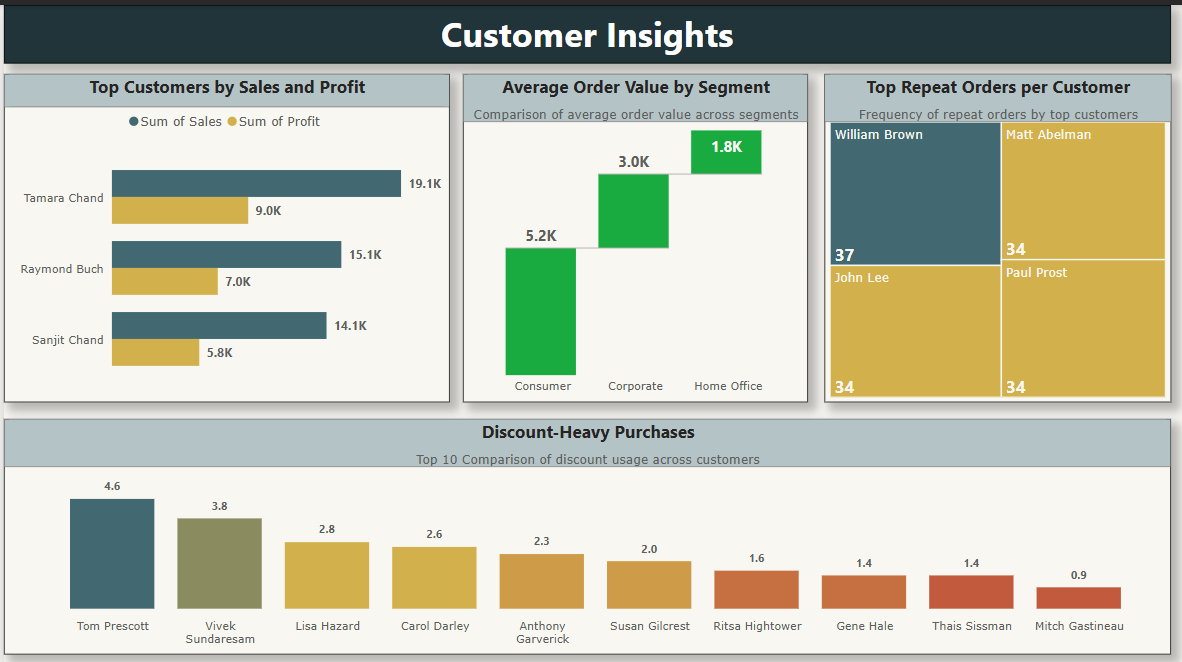

Layout of this report page (visuals, bound fields, positions):
{"tool":"powerbi","page":{"name":"Customer Insights","canvas":[1280,720],"ordinal":2},"visuals":[{"type":"textbox","box":[0,0,1265.5,63.4],"z":0},{"type":"clusteredBarChart","title":"Top Customers by Sales and Profit","fields":{"Category":["Orders.Customer Name"],"Y":["Orders.Sales","Orders.Profit"]},"box":[0,74.8,483.1,356.2],"z":1000},{"type":"waterfallChart","title":"Average Order Value by Segment","fields":{"Category":["Orders.Segment"],"Y":["Orders.Order ID"]},"box":[497.7,74.8,374.1,356.2],"z":2000},{"type":"treemap","title":"Top Repeat Orders per Customer","fields":{"Group":["Orders.Customer Name"],"Values":["Orders.Order ID"]},"box":[889.7,74.8,375.7,356.2],"z":3000},{"type":"clusteredColumnChart","title":"Discount-Heavy Purchases","fields":{"Y":["Orders.Discount"],"Category":["Orders.Customer Name"]},"box":[0,448.9,1265.5,255.4],"z":4000}]}

Visuals, with their boxes in screenshot pixels (x1, y1, x2, y2), scaled from the page's 1280x720 canvas onto the 1182x662 screenshot:
textbox: {"x1": 0, "y1": 0, "x2": 1169, "y2": 58}
"Top Customers by Sales and Profit" clusteredBarChart: {"x1": 0, "y1": 69, "x2": 446, "y2": 396}
"Average Order Value by Segment" waterfallChart: {"x1": 460, "y1": 69, "x2": 805, "y2": 396}
"Top Repeat Orders per Customer" treemap: {"x1": 822, "y1": 69, "x2": 1169, "y2": 396}
"Discount-Heavy Purchases" clusteredColumnChart: {"x1": 0, "y1": 413, "x2": 1169, "y2": 648}
